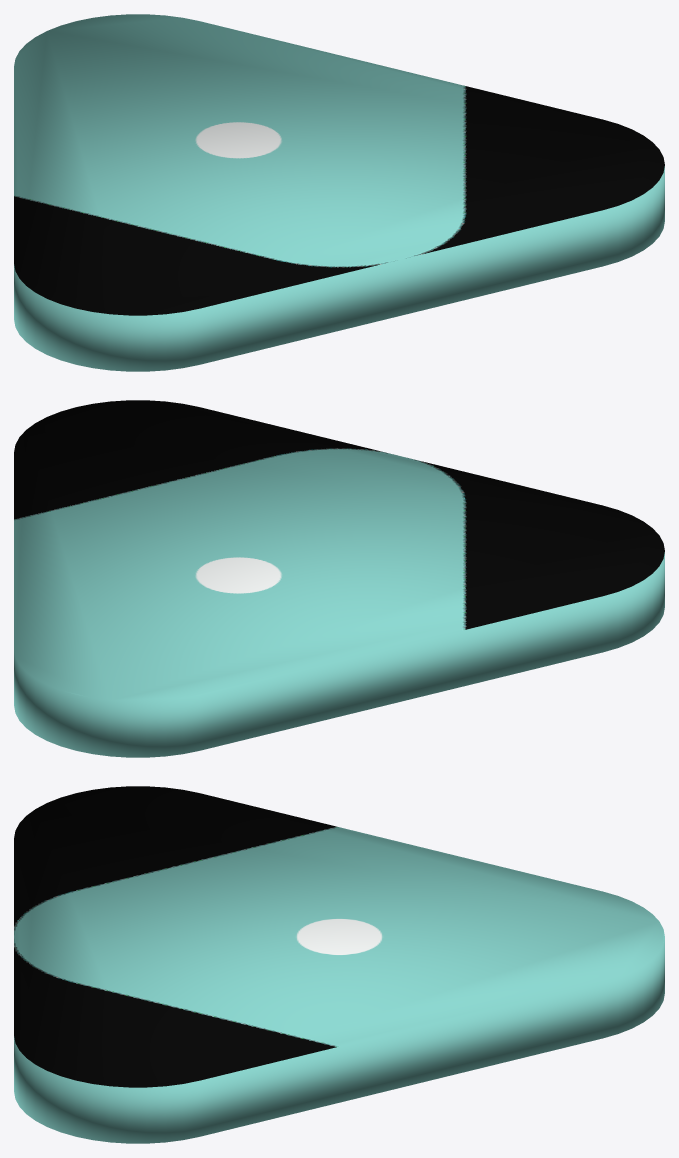
Rendered from back_tri.glb.
The picture shows the model from 3 angles, top to bottom: view 1: azimuth 30°, elevation 25°; view 2: azimuth 150°, elevation 25°; view 3: azimuth 270°, elevation 25°; orthographic projection.
Visible parts, largest first — view 1: back_tri; view 2: back_tri; view 3: back_tri.
Part boxes in pixels (<box>): back_tri: <box>14,14,664,371</box>; back_tri: <box>14,400,664,757</box>; back_tri: <box>14,786,664,1143</box>.
Bounding box in the file's own units: 0.0276 × 0.0024 × 0.0252.
2 materials, 1 textured.
